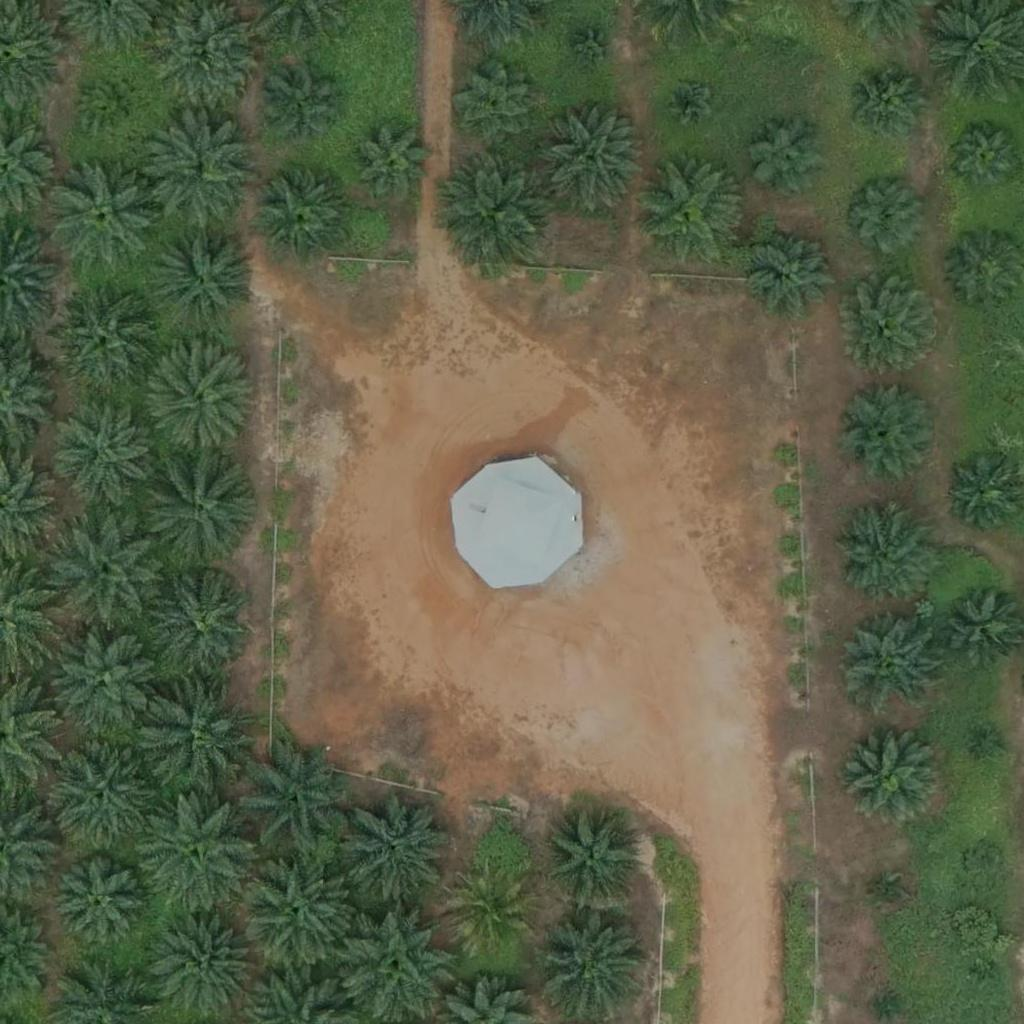Kelapa_Sawit: (343, 793, 456, 907), (341, 909, 454, 1023), (241, 744, 354, 858), (47, 160, 160, 273), (44, 282, 157, 395), (143, 117, 256, 230), (147, 221, 260, 334), (147, 344, 260, 457), (142, 456, 255, 569), (442, 155, 555, 268), (50, 515, 162, 629), (634, 155, 746, 269), (241, 850, 353, 964), (144, 683, 256, 797), (535, 105, 647, 218), (538, 908, 650, 1021), (141, 797, 253, 910), (45, 742, 157, 855), (47, 627, 159, 740), (832, 502, 932, 603), (840, 613, 940, 714), (838, 721, 938, 822), (540, 808, 640, 909), (152, 914, 252, 1015), (53, 402, 153, 502), (152, 575, 252, 675), (842, 276, 942, 376), (837, 383, 937, 483), (258, 173, 346, 262), (751, 228, 839, 316), (446, 871, 534, 959), (454, 63, 541, 151), (745, 113, 832, 201), (844, 63, 931, 151), (841, 172, 928, 260), (54, 861, 141, 949), (267, 73, 342, 149), (948, 455, 1023, 531), (353, 124, 428, 199), (946, 119, 1021, 194), (84, 76, 146, 139), (569, 21, 619, 72), (663, 77, 713, 128), (760, 14, 810, 64), (966, 846, 1004, 884), (979, 731, 1004, 756), (975, 961, 1000, 986), (875, 881, 900, 906), (875, 994, 900, 1019)
